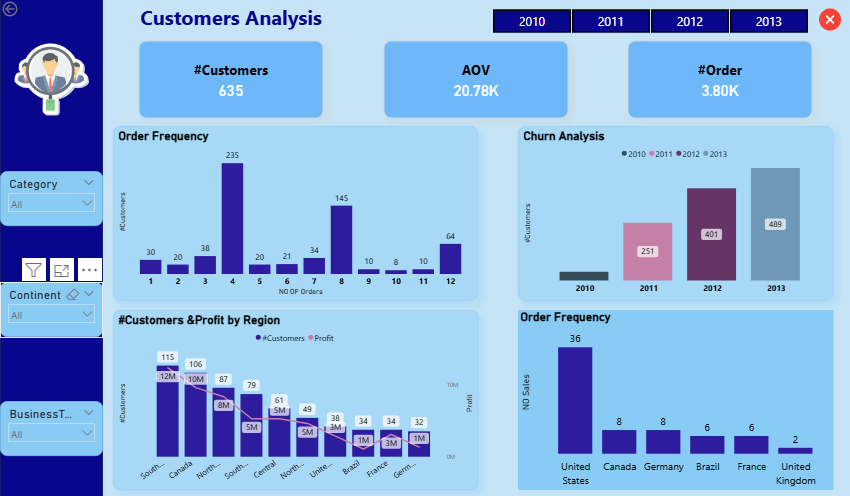

The page's visual inventory and layout, read from the dashboard file:
{"tool":"powerbi","page":{"name":"Customers Analysis","canvas":[1700,1000],"ordinal":1},"visuals":[{"type":"cardVisual","fields":{"Data":["Calculations.#Customers"]},"box":[278,84,368,154],"z":0},{"type":"cardVisual","fields":{"Data":["Calculations.AOV"]},"box":[767,84,368,154],"z":1000},{"type":"cardVisual","fields":{"Data":["Calculations.#Order"]},"box":[1256,84,368,154],"z":2000},{"type":"clusteredColumnChart","title":"Order Frequency","fields":{"Y":["Calculations.#Customers"],"Category":["Customers.NO OF Orders"]},"box":[226,254,730,350],"z":3000},{"type":"lineStackedColumnComboChart","title":"Churn Analysis","fields":{"Category":["Calendar2.Date.Variation.Date Hierarchy.Year"],"Y":["Calculations.#Customers"],"Series":["SalesDetails.First Order"]},"box":[1036,254,630,350],"z":4000},{"type":"lineClusteredColumnComboChart","title":"#Customers &Profit by Region ","fields":{"Category":["Customers.Region"],"Y":["Calculations.#Customers"],"Y2":["Calculations.Profit"]},"box":[225,622.9,731.2,360.4],"z":5000},{"type":"clusteredColumnChart","title":"Order Frequency","fields":{"Y":["Calculations.NO Sales"],"Category":["Customers.CountryName"]},"box":[1035.4,622.9,631.2,360.4],"z":6000},{"type":"shape","box":[0,0,206,1000],"z":7000},{"type":"actionButton","title":"Customer Title","box":[252,0,420,68],"z":8000},{"type":"slicer","fields":{"Values":["Calendar2.Date.Variation.Date Hierarchy.Year"]},"box":[960,14,680,54],"z":9000},{"type":"image","box":[0,84,206,154],"z":10000},{"type":"slicer","fields":{"Values":["Customers.Continent"]},"box":[0,566.7,206.2,110.4],"z":11000},{"type":"slicer","fields":{"Values":["Customers.BusinessType"]},"box":[0,804.2,206.2,110.4],"z":12000},{"type":"slicer","fields":{"Values":["Products.CategoryName"]},"box":[0,343.8,206.2,110.4],"z":13000},{"type":"image","box":[1620,14,80,54],"z":14000},{"type":"actionButton","box":[0,0,100,40],"z":15000}]}

Visuals, with their boxes on the page's 1700x1000 design canvas (x1, y1, x2, y2). These are canvas units, not pixel positions in the 850x496 screenshot, which may show the page scaled, cropped or inside an application window:
cardVisual - Calculations.#Customers: <region>278, 84, 646, 238</region>
cardVisual - Calculations.AOV: <region>767, 84, 1135, 238</region>
cardVisual - Calculations.#Order: <region>1256, 84, 1624, 238</region>
"Order Frequency" clusteredColumnChart: <region>226, 254, 956, 604</region>
"Churn Analysis" lineStackedColumnComboChart: <region>1036, 254, 1666, 604</region>
"#Customers &Profit by Region " lineClusteredColumnComboChart: <region>225, 623, 956, 983</region>
"Order Frequency" clusteredColumnChart: <region>1035, 623, 1667, 983</region>
shape: <region>0, 0, 206, 1000</region>
"Customer Title" actionButton: <region>252, 0, 672, 68</region>
slicer - Calendar2.Date.Variation.Date Hierarchy.Year: <region>960, 14, 1640, 68</region>
image: <region>0, 84, 206, 238</region>
slicer - Customers.Continent: <region>0, 567, 206, 677</region>
slicer - Customers.BusinessType: <region>0, 804, 206, 915</region>
slicer - Products.CategoryName: <region>0, 344, 206, 454</region>
image: <region>1620, 14, 1700, 68</region>
actionButton: <region>0, 0, 100, 40</region>
